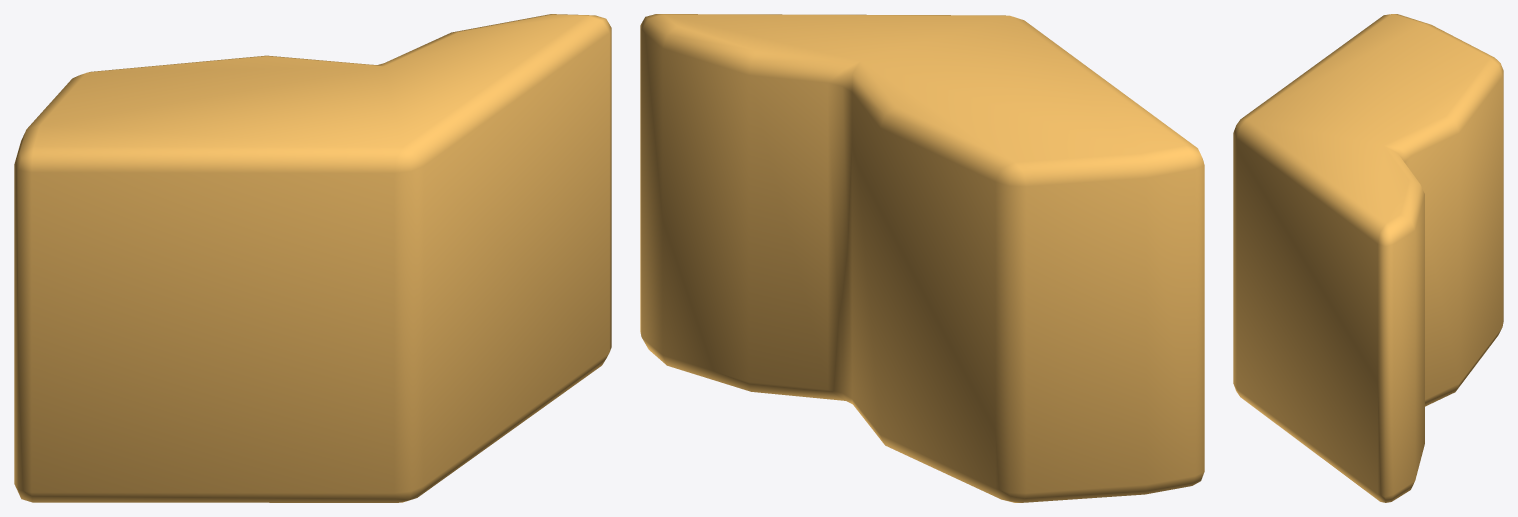
Rendered from sand_border3.glb.
The picture shows the model from 3 angles, left to right: view 1: azimuth 30°, elevation 25°; view 2: azimuth 150°, elevation 25°; view 3: azimuth 270°, elevation 25°; orthographic projection. The views are drawn at different scales.
Parts seen in each view (by area): view 1: sand_border3; view 2: sand_border3; view 3: sand_border3.
Boxes of the visible parts, <box> form: sand_border3: <box>14,14,611,502</box>; sand_border3: <box>640,14,1204,502</box>; sand_border3: <box>1233,14,1503,502</box>.
Size of the model in its own units: 6.96 by 4 by 3.53.
